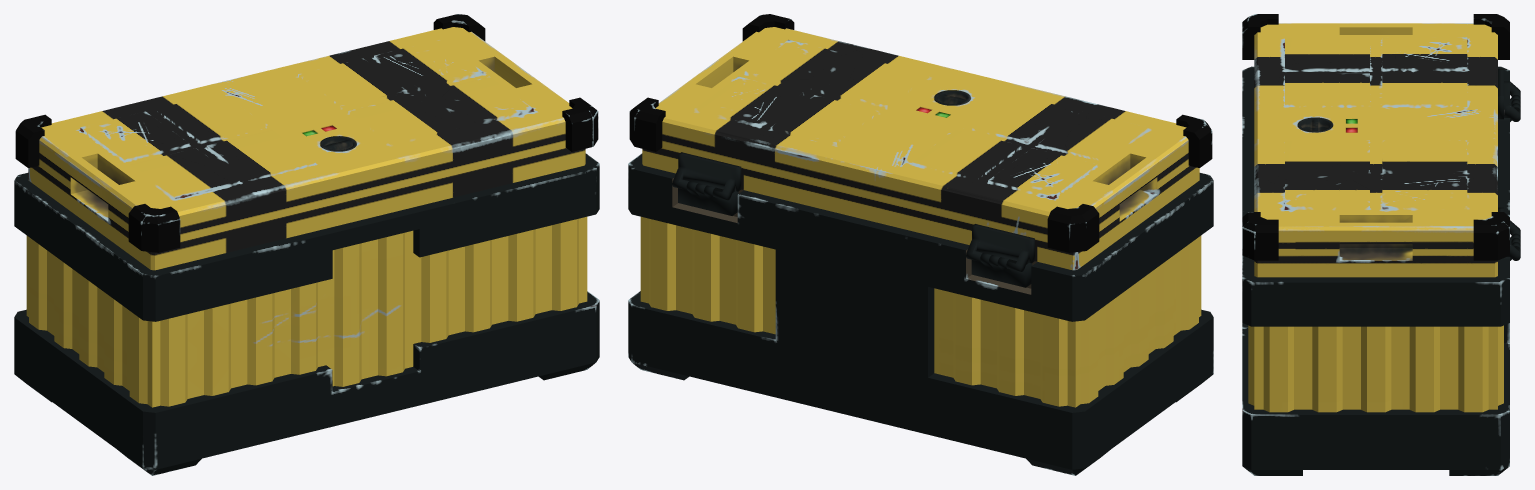
3 views of the same model, side by side, from view 1: azimuth 30°, elevation 25°; view 2: azimuth 150°, elevation 25°; view 3: azimuth 270°, elevation 25° (orthographic). The views are drawn at different scales.
Parts seen in each view (by area): view 1: Case_1, Lid_0; view 2: Case_1, Lid_0, Hinges.Top_3, Hinges.Bottom_4; view 3: Lid_0, Case_1, Hinges.Top_3, Lock_5.
Part boxes in pixels (left/top/right/bottom): Case_1: left=14, top=153, right=599, bottom=475; Lid_0: left=15, top=14, right=598, bottom=270; Case_1: left=628, top=153, right=1213, bottom=475; Lid_0: left=629, top=14, right=1212, bottom=270; Hinges.Top_3: left=672, top=152, right=1034, bottom=271; Hinges.Bottom_4: left=678, top=181, right=1032, bottom=287; Lid_0: left=1242, top=14, right=1509, bottom=277; Case_1: left=1242, top=66, right=1509, bottom=475; Hinges.Top_3: left=1498, top=69, right=1520, bottom=260; Lock_5: left=1297, top=117, right=1332, bottom=132.
Bounding box in the file's own units: 2.69 × 1.47 × 1.47.
Materials: 3 (3 with a texture image).
